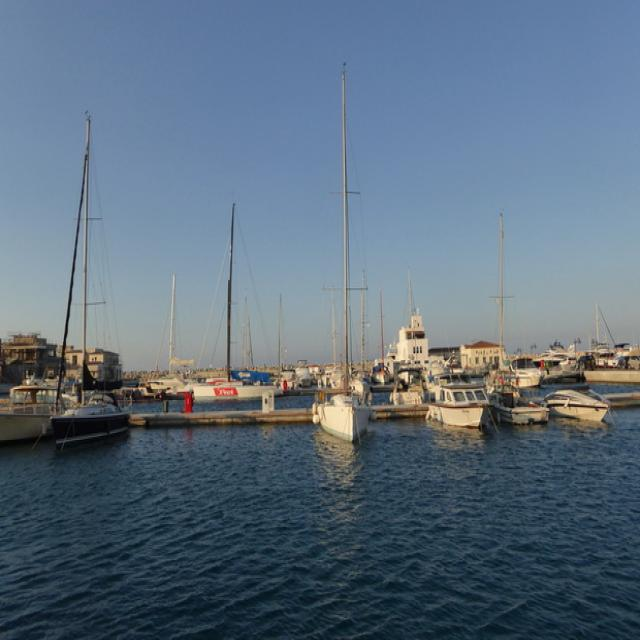passenger ship: (313, 380, 387, 472), (548, 372, 640, 444), (58, 374, 138, 448), (0, 347, 54, 436), (430, 374, 503, 428), (523, 373, 544, 422)
